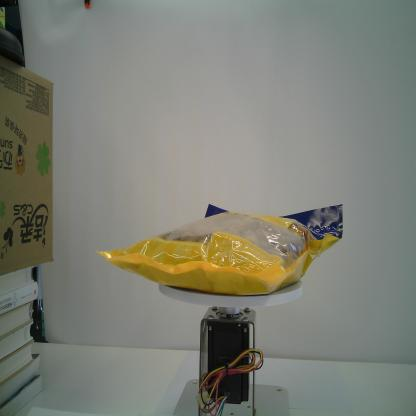Dried Food: (94, 202, 343, 296)
